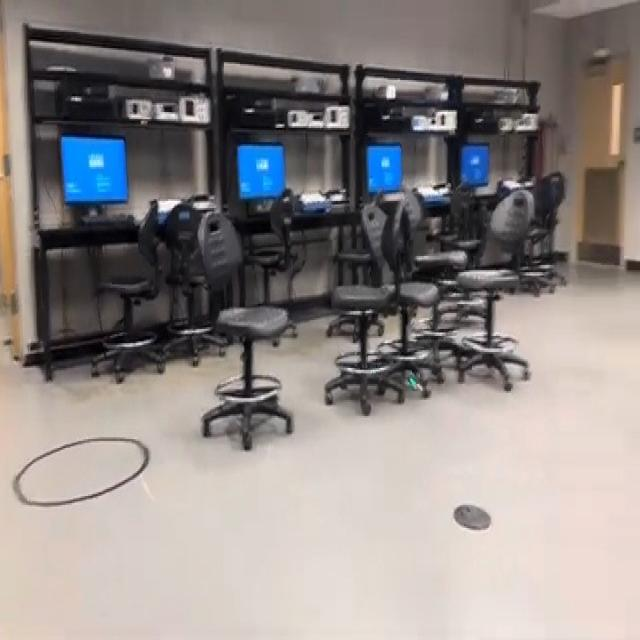drone: (392, 356, 432, 411)
